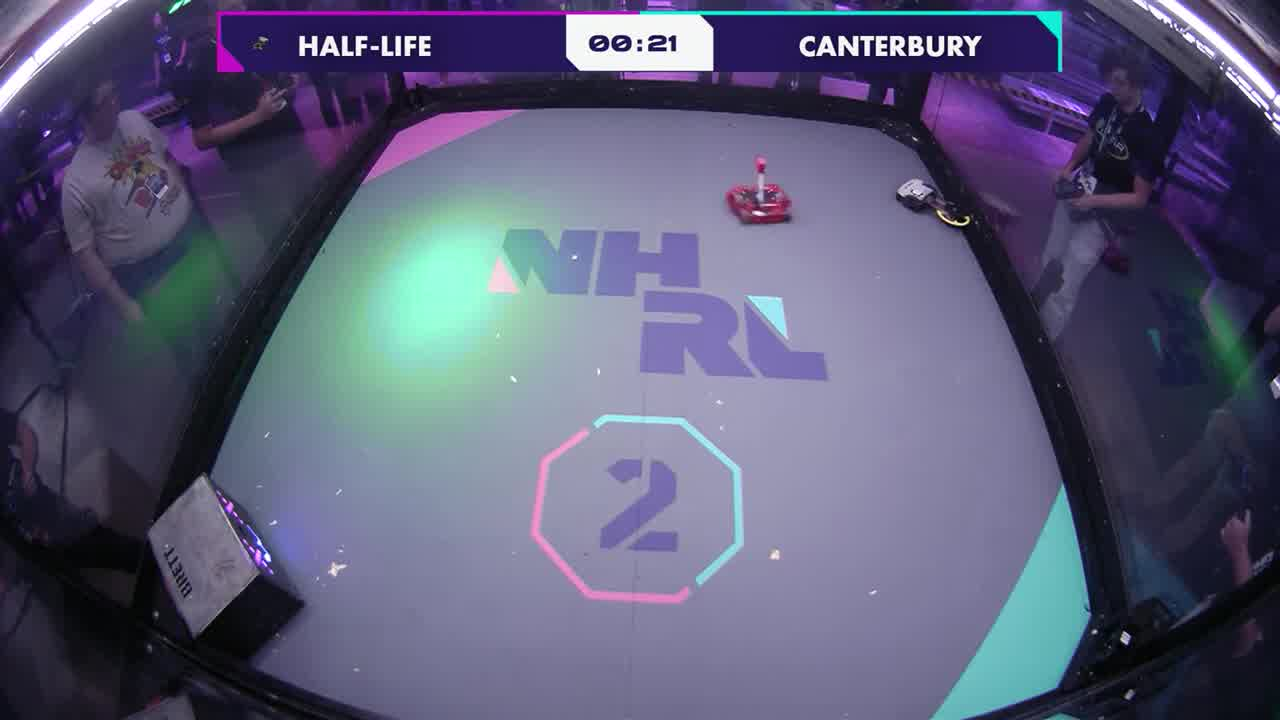combatbot: (723, 159, 798, 227), (893, 176, 968, 230)
housebot: (145, 476, 302, 656)
